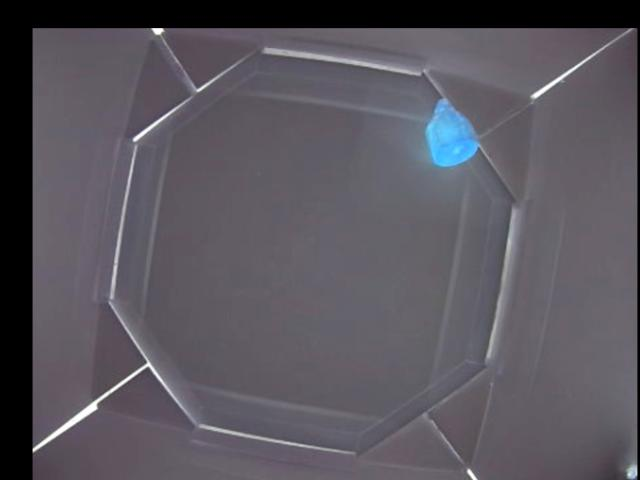Carrot: (425, 99, 479, 168)
